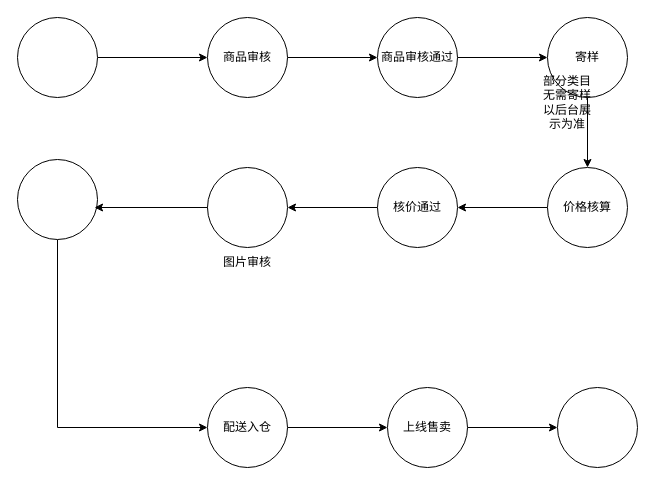
The diagram is 655 pixels wide and 485 high, and some of its shapes have lost their labels. Here are the shapes that lost their labels. From the top down, the box of each, then its label:
(16, 16, 98, 98): 发布商品
(16, 158, 98, 240): 申请通过 确认备货
(206, 166, 288, 248): 申请备货
(556, 386, 638, 468): 物流妥投 等待回款
